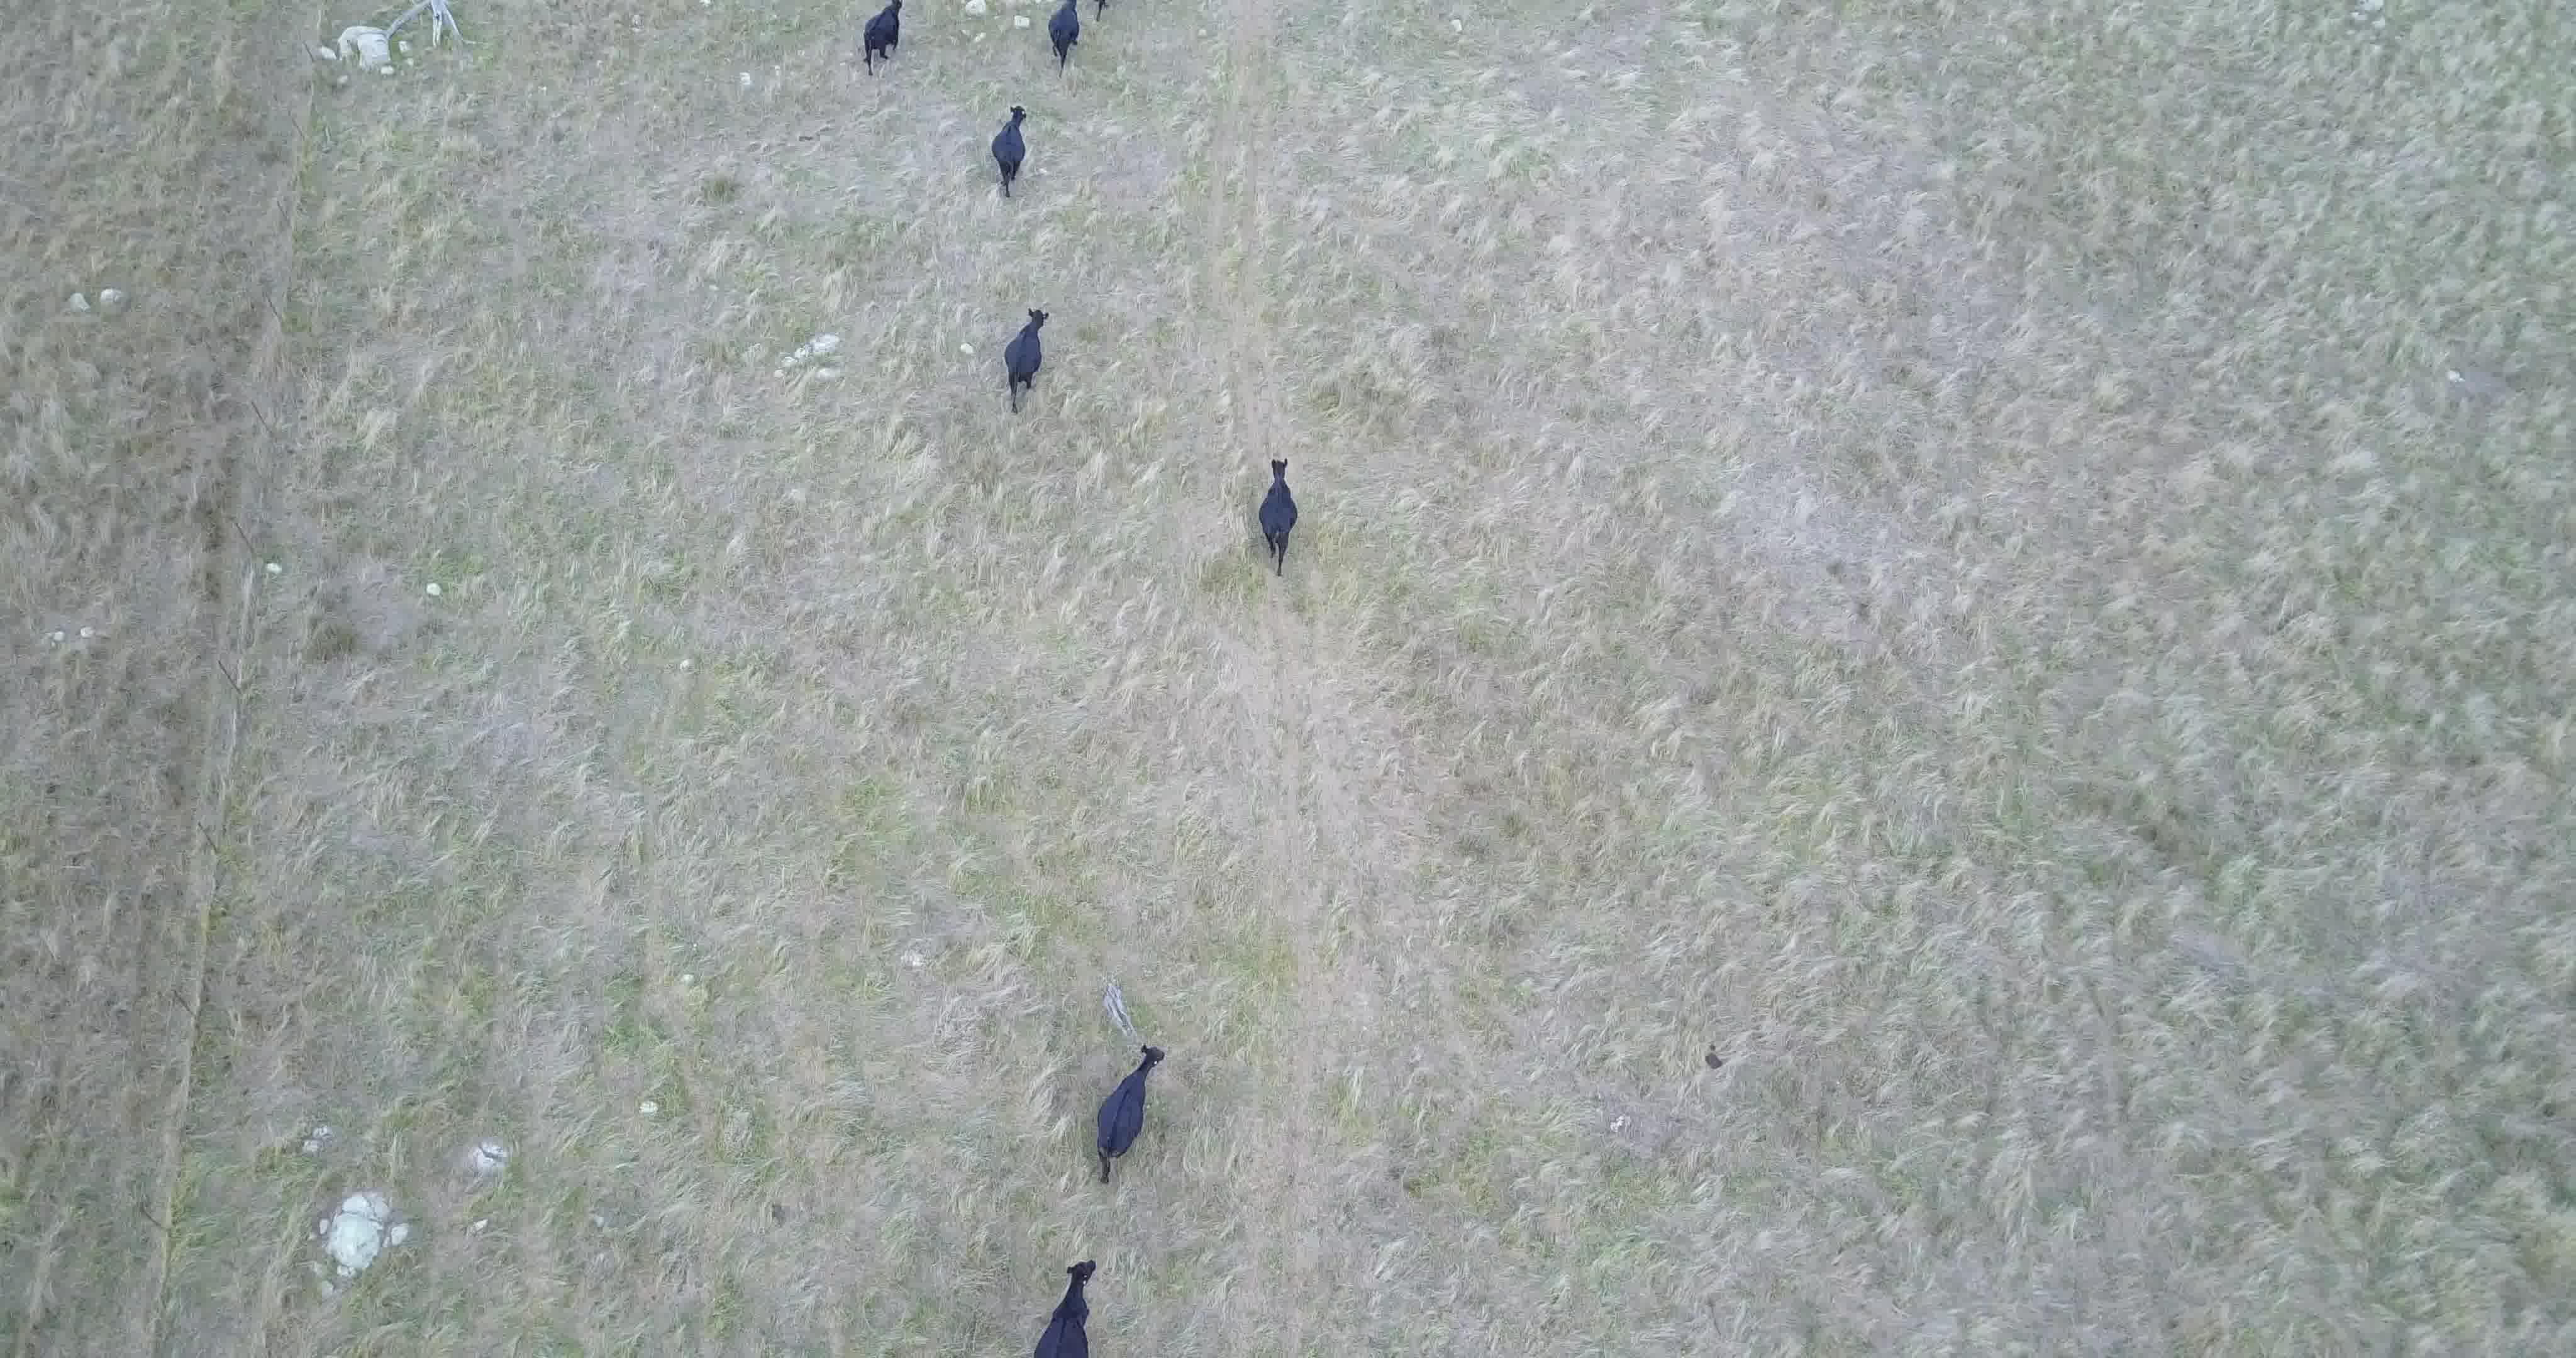cattle: (1092, 1036, 1169, 1196), (1024, 1259, 1107, 1358), (1256, 453, 1302, 578), (1002, 305, 1051, 417), (990, 99, 1031, 199), (859, 2, 906, 73), (1046, 2, 1084, 80)
